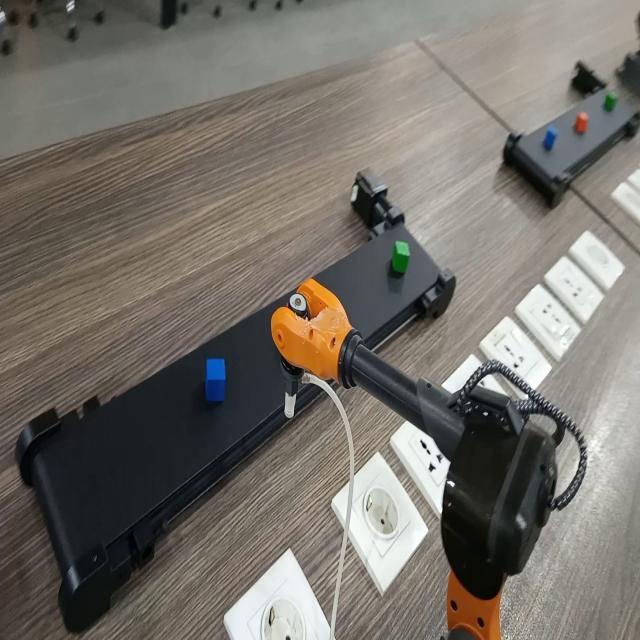cube: (203, 352, 229, 404), (389, 236, 411, 279), (604, 86, 619, 114), (543, 126, 559, 151)
